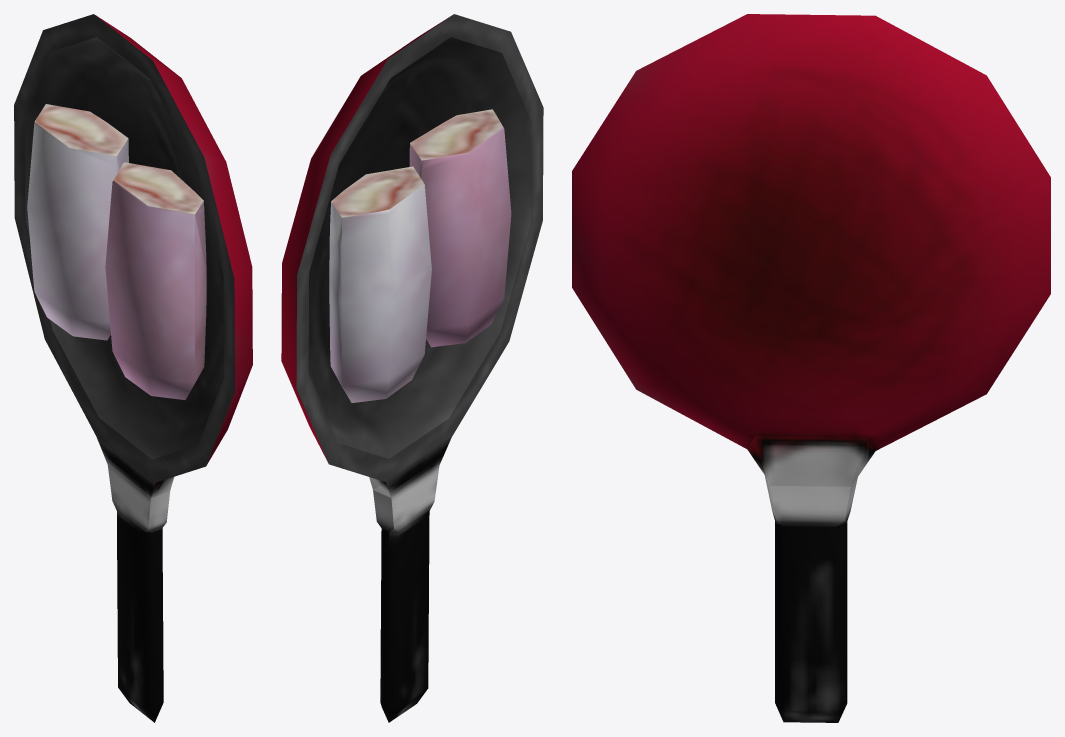
Rendered from AL_PolloQueso_Static.fbx.
3 renders of one model, left to right at view 1: azimuth 30°, elevation 25°; view 2: azimuth 150°, elevation 25°; view 3: azimuth 270°, elevation 25°, orthographic. The views are drawn at different scales.
Visible parts, largest first — view 1: Frying_Pan; view 2: Frying_Pan; view 3: Frying_Pan.
Part boxes in pixels (x1=…): Frying_Pan: x1=14, y1=14, x2=252, y2=722; Frying_Pan: x1=281, y1=14, x2=543, y2=722; Frying_Pan: x1=572, y1=14, x2=1050, y2=722.
Bounding box in the file's own units: 0.4143 × 0.6668 × 0.0857.
